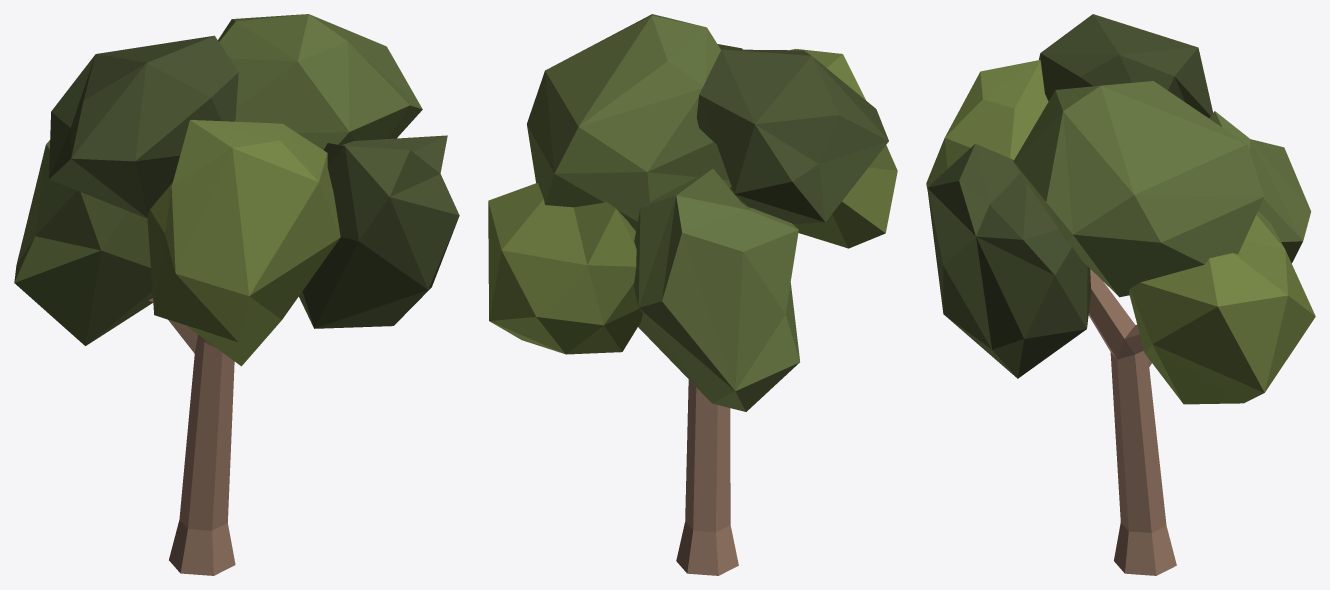
File: Tree_Type0_05.glb
3 renders of one model, left to right at view 1: azimuth 30°, elevation 25°; view 2: azimuth 150°, elevation 25°; view 3: azimuth 270°, elevation 25°, orthographic. The views are drawn at different scales.
Visible parts, largest first — view 1: Tree Type0 05 Model; view 2: Tree Type0 05 Model; view 3: Tree Type0 05 Model.
Boxes of the visible parts, box(x1,y1,x2,y2) form: Tree Type0 05 Model: box(14, 14, 459, 575); Tree Type0 05 Model: box(488, 14, 897, 575); Tree Type0 05 Model: box(926, 14, 1315, 575).
Bounding box in the file's own units: 2.32 × 3.39 × 2.32.
Materials: 1 (1 with a texture image).
